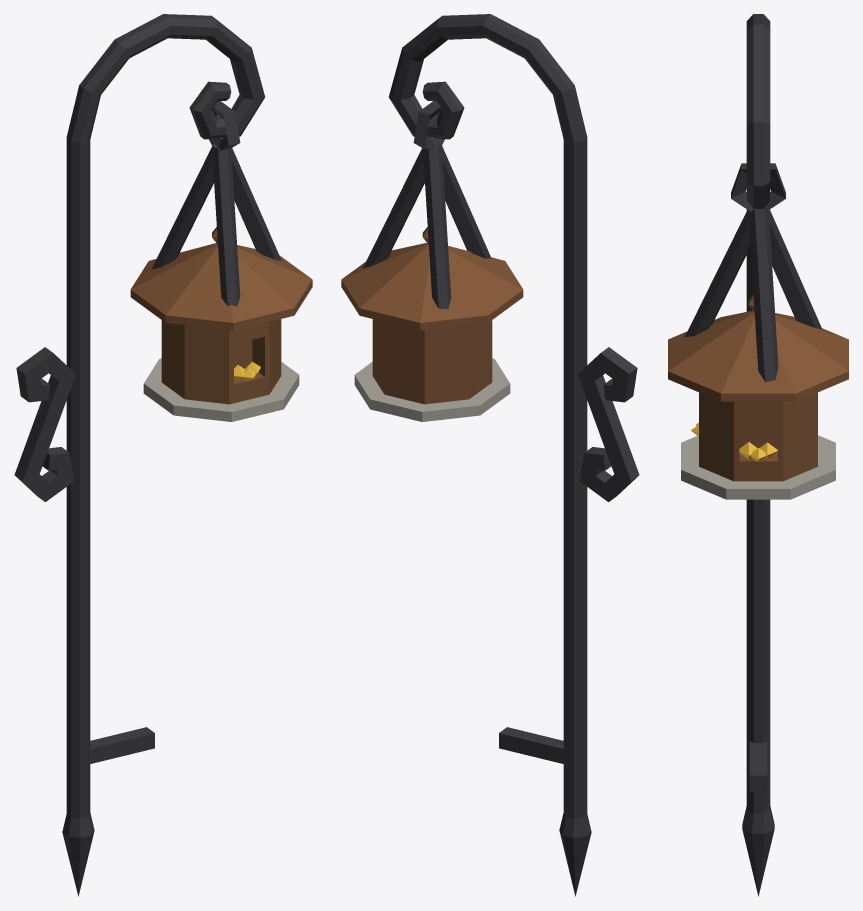
Rendered from FMS_Garden_Shepherd_Hook_Feeder.fbx.
The picture shows the model from 3 angles, left to right: view 1: azimuth 30°, elevation 25°; view 2: azimuth 150°, elevation 25°; view 3: azimuth 270°, elevation 25°; orthographic projection. The views are drawn at different scales.
Visible parts, largest first — view 1: FMS_Garden_Shepherd_Hook_Feeder_Body, Hanging; view 2: FMS_Garden_Shepherd_Hook_Feeder_Body, Hanging; view 3: Hanging, FMS_Garden_Shepherd_Hook_Feeder_Body.
Boxes of the visible parts, box(x1,y1,x2,y2) form: FMS_Garden_Shepherd_Hook_Feeder_Body: box(14, 14, 264, 896); Hanging: box(130, 101, 312, 421); FMS_Garden_Shepherd_Hook_Feeder_Body: box(389, 14, 639, 896); Hanging: box(341, 101, 523, 421); Hanging: box(668, 163, 848, 499); FMS_Garden_Shepherd_Hook_Feeder_Body: box(742, 14, 774, 896).
Bounding box in the file's own units: 0.5721 × 1.7 × 0.304.
